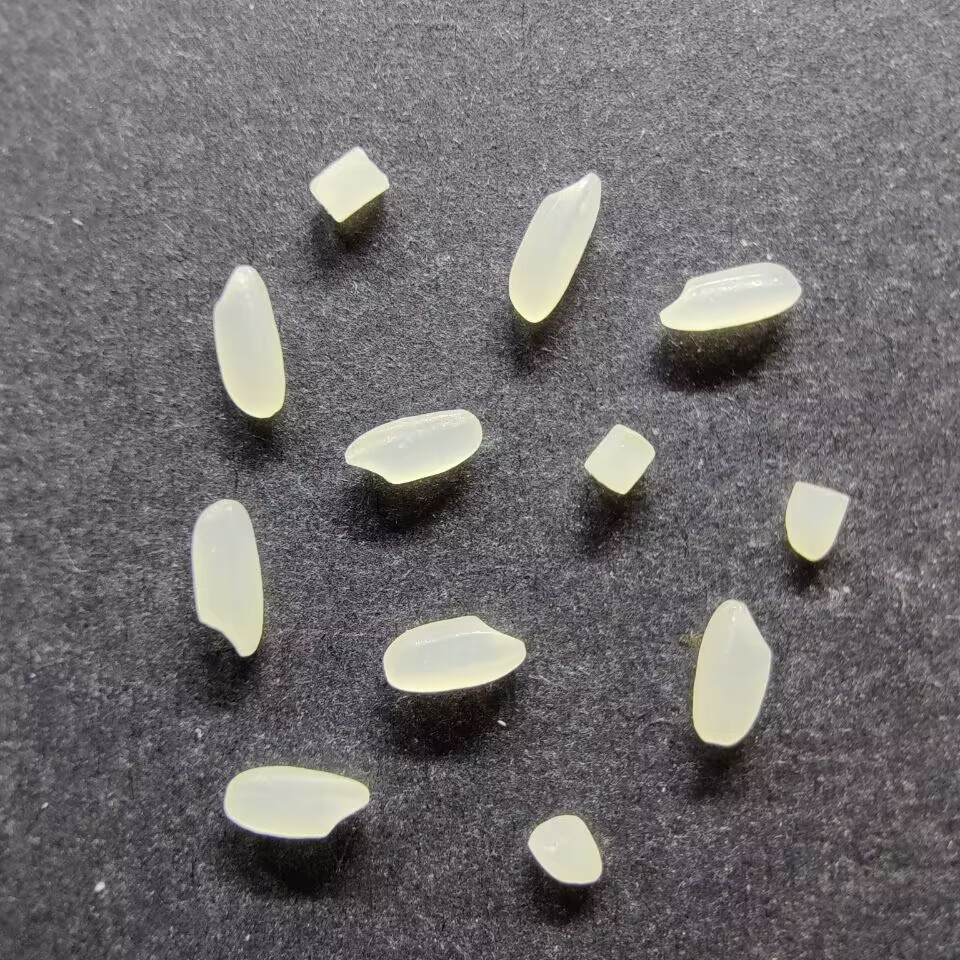broken: (308, 146, 389, 223), (527, 814, 602, 885), (784, 481, 849, 562), (582, 423, 655, 495)
rice: (507, 170, 602, 323), (690, 599, 769, 747), (191, 498, 264, 658), (212, 265, 286, 418), (382, 614, 525, 693), (222, 765, 370, 839), (343, 407, 481, 485), (658, 262, 801, 331)
